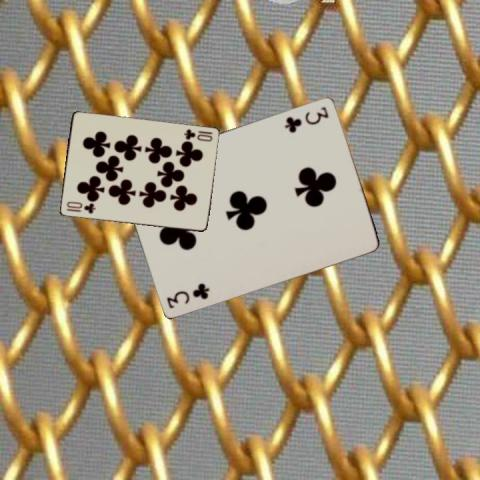10c: (63, 198, 97, 214), (181, 126, 213, 143)
3c: (282, 103, 330, 134), (164, 281, 212, 309)
